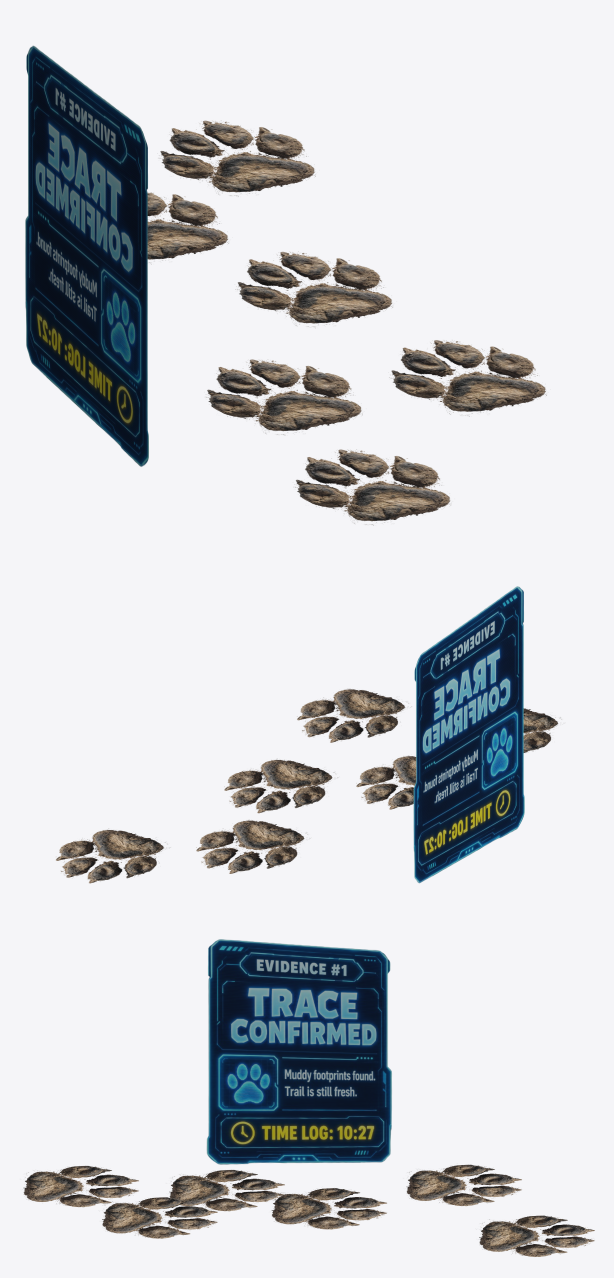
Rendered from clue1.glb.
The picture shows the model from 3 angles, top to bottom: view 1: azimuth 30°, elevation 25°; view 2: azimuth 150°, elevation 25°; view 3: azimuth 270°, elevation 25°; orthographic projection. The views are drawn at different scales.
Visible parts, largest first — view 1: 1b75ff88-699e-4d0e-ad3a-373ae17a96e1-removebg-preview, image_2026-06-02_201612806-removebg-preview.002, image_2026-06-02_201612806-removebg-preview, image_2026-06-02_201612806-removebg-preview.005, image_2026-06-02_201612806-removebg-preview.001, image_2026-06-02_201612806-removebg-preview.003, image_2026-06-02_201612806-removebg-preview.004; view 2: 1b75ff88-699e-4d0e-ad3a-373ae17a96e1-removebg-preview, image_2026-06-02_201612806-removebg-preview.004, image_2026-06-02_201612806-removebg-preview.002, image_2026-06-02_201612806-removebg-preview.003, image_2026-06-02_201612806-removebg-preview.001, image_2026-06-02_201612806-removebg-preview, image_2026-06-02_201612806-removebg-preview.005; view 3: 1b75ff88-699e-4d0e-ad3a-373ae17a96e1-removebg-preview, image_2026-06-02_201612806-removebg-preview.003, image_2026-06-02_201612806-removebg-preview.004, image_2026-06-02_201612806-removebg-preview.002, image_2026-06-02_201612806-removebg-preview.005, image_2026-06-02_201612806-removebg-preview.001, image_2026-06-02_201612806-removebg-preview.
Part boxes in pixels (x1,y1,x2,y2): 1b75ff88-699e-4d0e-ad3a-373ae17a96e1-removebg-preview: (25,45,148,466); image_2026-06-02_201612806-removebg-preview.002: (388,340,546,416); image_2026-06-02_201612806-removebg-preview: (205,359,362,435); image_2026-06-02_201612806-removebg-preview.005: (293,449,451,525); image_2026-06-02_201612806-removebg-preview.001: (235,251,393,328); image_2026-06-02_201612806-removebg-preview.003: (157,120,315,196); image_2026-06-02_201612806-removebg-preview.004: (147,192,228,264); 1b75ff88-699e-4d0e-ad3a-373ae17a96e1-removebg-preview: (413,586,524,882); image_2026-06-02_201612806-removebg-preview.004: (196,819,310,873); image_2026-06-02_201612806-removebg-preview.002: (297,688,411,742); image_2026-06-02_201612806-removebg-preview.003: (55,828,170,883); image_2026-06-02_201612806-removebg-preview.001: (224,758,338,813); image_2026-06-02_201612806-removebg-preview: (356,755,416,809); image_2026-06-02_201612806-removebg-preview.005: (523,708,564,752); 1b75ff88-699e-4d0e-ad3a-373ae17a96e1-removebg-preview: (206,939,391,1164); image_2026-06-02_201612806-removebg-preview.003: (476,1215,594,1256); image_2026-06-02_201612806-removebg-preview.004: (406,1164,521,1206); image_2026-06-02_201612806-removebg-preview.002: (102,1197,217,1238); image_2026-06-02_201612806-removebg-preview.005: (23,1165,138,1207); image_2026-06-02_201612806-removebg-preview.001: (271,1188,387,1229); image_2026-06-02_201612806-removebg-preview: (166,1169,284,1211).
Size of the model in its own units: 1.23 by 1 by 2.25.
Materials: 2 (2 with a texture image).
